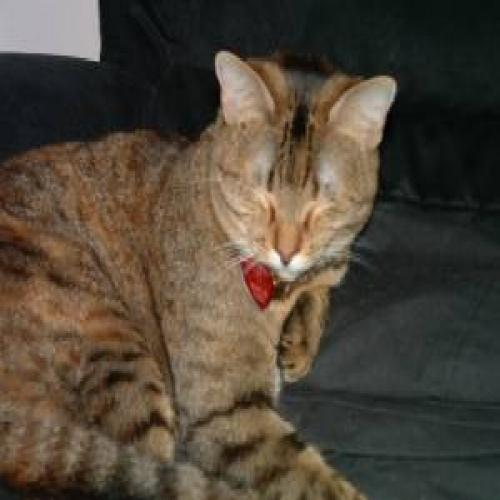cat-face: (204, 32, 402, 284)
